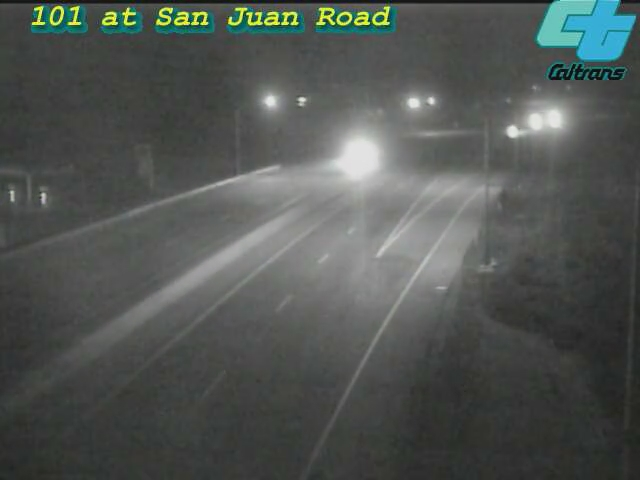vehicle: (332, 130, 382, 180), (487, 107, 537, 157), (508, 96, 558, 146), (527, 94, 577, 144)
